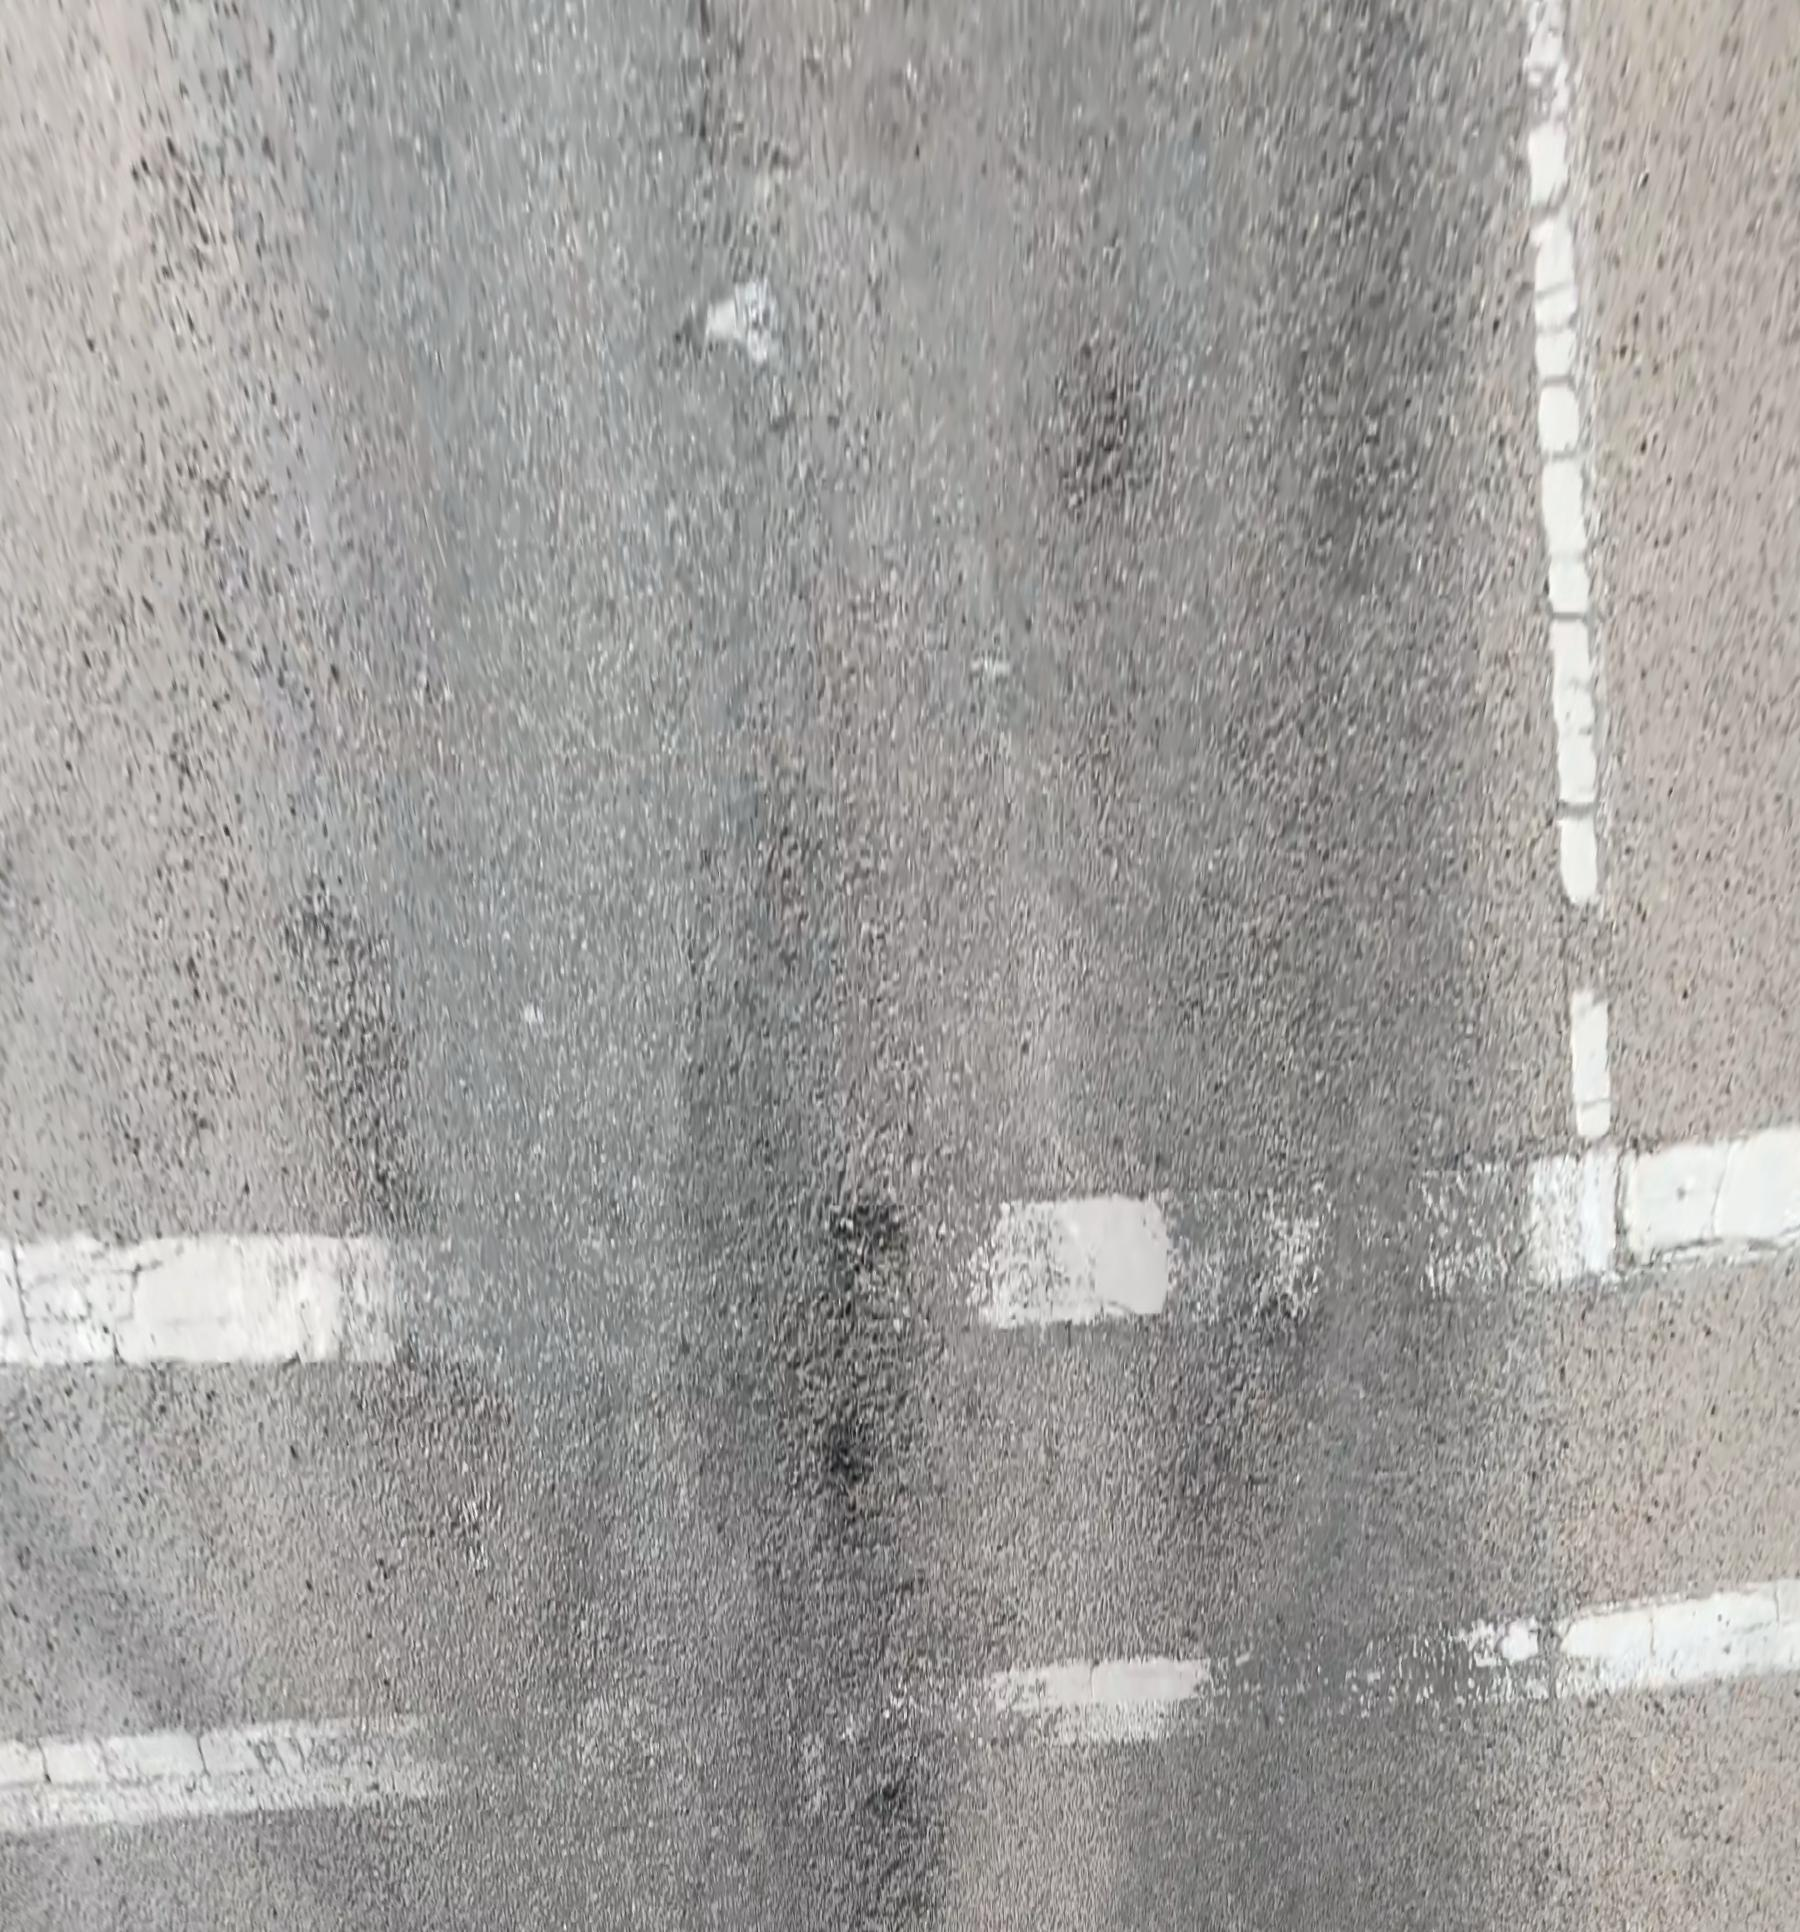pothole: (824, 1206, 912, 1282)
